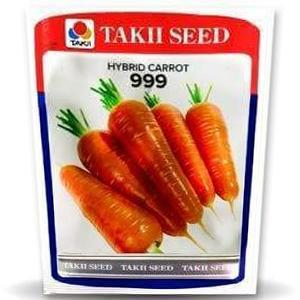carrot: (116, 97, 239, 209), (72, 127, 188, 234), (59, 165, 165, 255)
